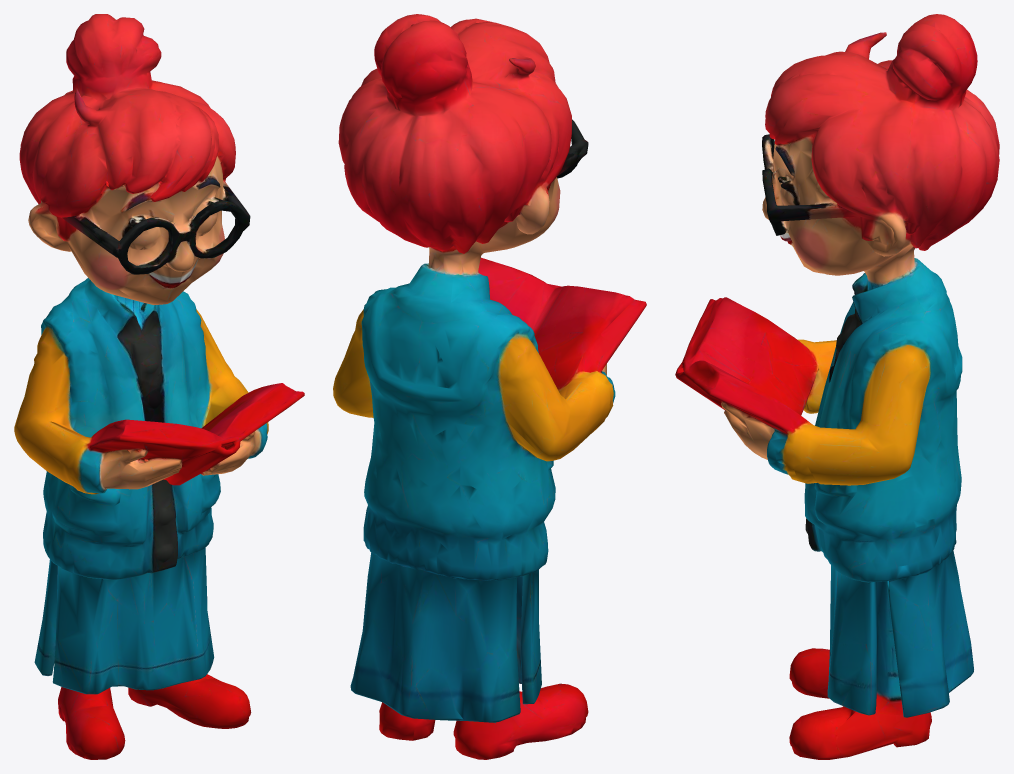
File: clay-story-keeper.glb
3 renders of one model, left to right at view 1: azimuth 30°, elevation 25°; view 2: azimuth 150°, elevation 25°; view 3: azimuth 270°, elevation 25°, orthographic. The views are drawn at different scales.
Bounding box in the file's own units: 0.6284 × 1.91 × 0.802.
1 material, 1 textured.
